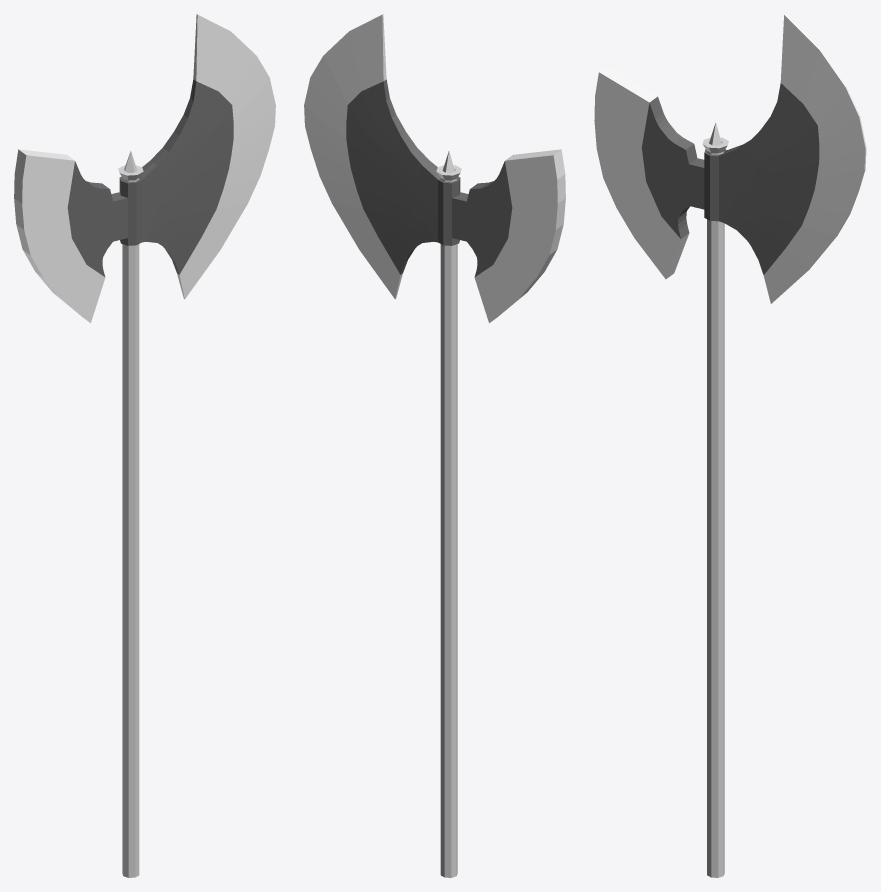
The model's file is two_handed_axe_6.fbx.
3 renders of one model, left to right at view 1: azimuth 30°, elevation 25°; view 2: azimuth 150°, elevation 25°; view 3: azimuth 330°, elevation 25°, orthographic. The views are drawn at different scales.
Visible parts, largest first — view 1: two_handed_axe_6; view 2: two_handed_axe_6; view 3: two_handed_axe_6.
Part boxes in pixels (box(x1,y1,x2,y2)): two_handed_axe_6: box(14, 14, 275, 877); two_handed_axe_6: box(304, 14, 565, 877); two_handed_axe_6: box(594, 14, 866, 877).
Size of the model in its own units: 0.6411 by 2.01 by 0.0571.
1 material, 1 textured.
